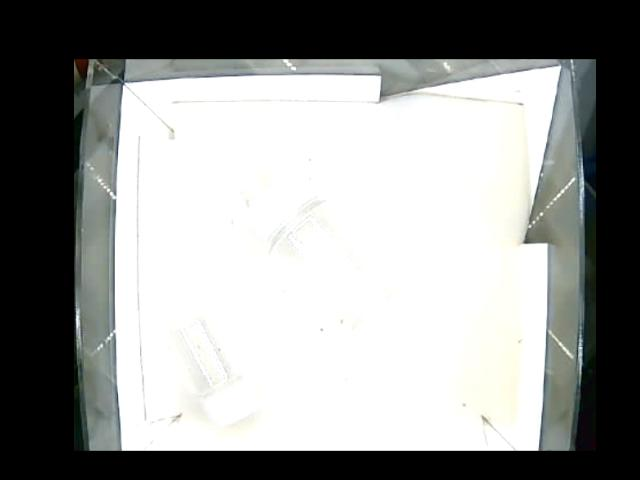Bottle: (247, 171, 399, 331), (162, 315, 270, 427)
